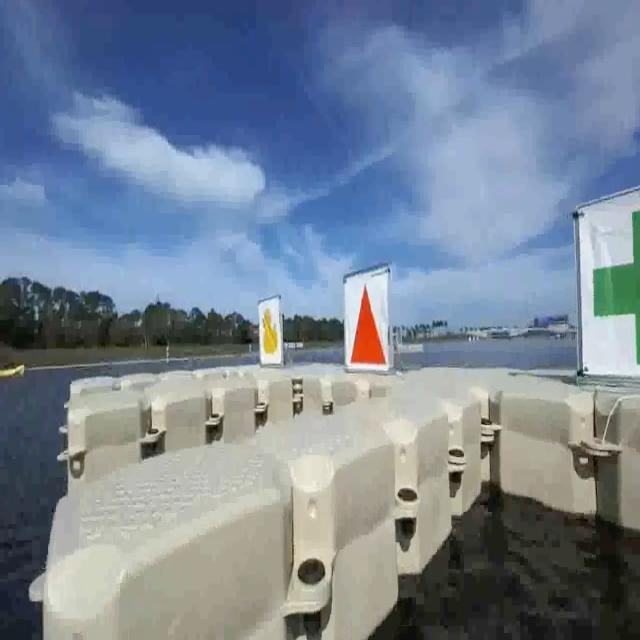blue-cross: (579, 192, 640, 381)
yellow-duck: (257, 297, 281, 373)
